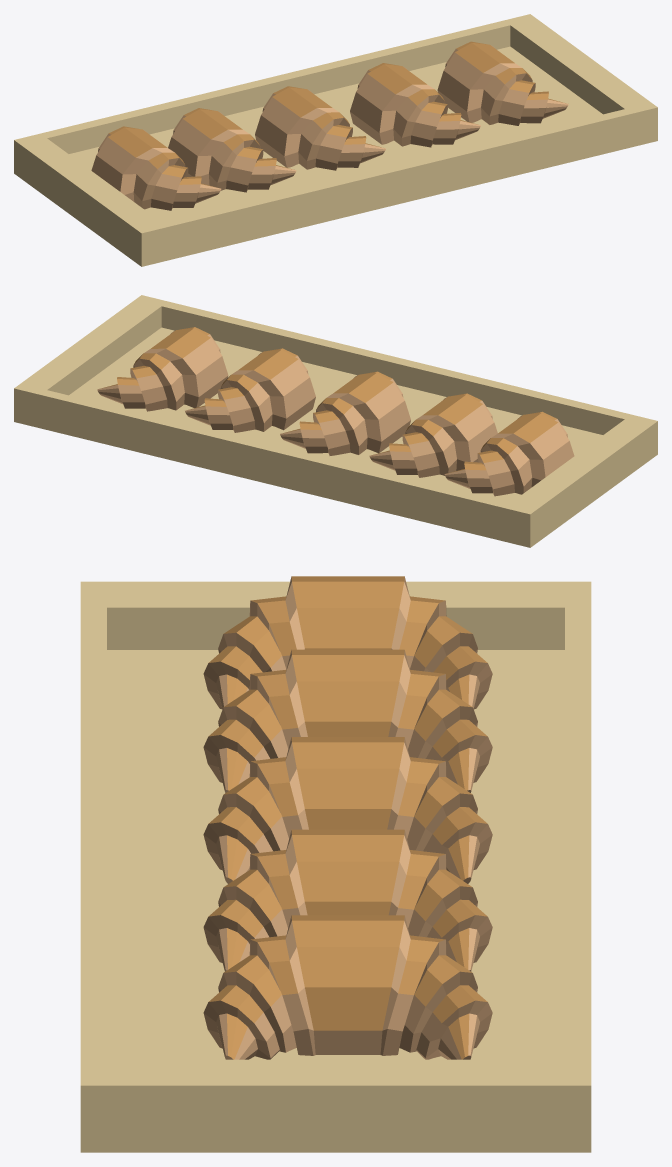
The model's file is croissatns.fbx.
The picture shows the model from 3 angles, top to bottom: view 1: azimuth 30°, elevation 25°; view 2: azimuth 150°, elevation 25°; view 3: azimuth 270°, elevation 25°; orthographic projection. The views are drawn at different scales.
Visible parts, largest first — view 1: pasted__tray, pasted__croissantv5, pasted__croissantv7, pasted__croissantv3, pasted__croissantv11, pasted__croissantv9; view 2: pasted__tray, pasted__croissantv5, pasted__croissantv7, pasted__croissantv3, pasted__croissantv11, pasted__croissantv9; view 3: pasted__tray, pasted__croissantv3, pasted__croissantv7, pasted__croissantv9, pasted__croissantv5, pasted__croissantv11.
Part boxes in pixels (x1,y1,x2,y2): pasted__tray: (14, 14, 657, 266); pasted__croissantv5: (350, 63, 480, 147); pasted__croissantv7: (255, 86, 385, 170); pasted__croissantv3: (437, 41, 568, 125); pasted__croissantv11: (91, 126, 221, 210); pasted__croissantv9: (168, 108, 296, 192); pasted__tray: (14, 295, 657, 547); pasted__croissantv5: (185, 348, 315, 432); pasted__croissantv7: (280, 371, 410, 455); pasted__croissantv3: (97, 327, 228, 411); pasted__croissantv11: (444, 411, 574, 496); pasted__croissantv9: (369, 393, 497, 477); pasted__tray: (80, 581, 591, 1152); pasted__croissantv3: (203, 915, 492, 1059); pasted__croissantv7: (203, 737, 492, 883); pasted__croissantv9: (203, 649, 492, 792); pasted__croissantv5: (203, 829, 492, 971); pasted__croissantv11: (203, 576, 492, 709).
Size of the model in its own units: 1.47 by 0.2164 by 0.6298.
